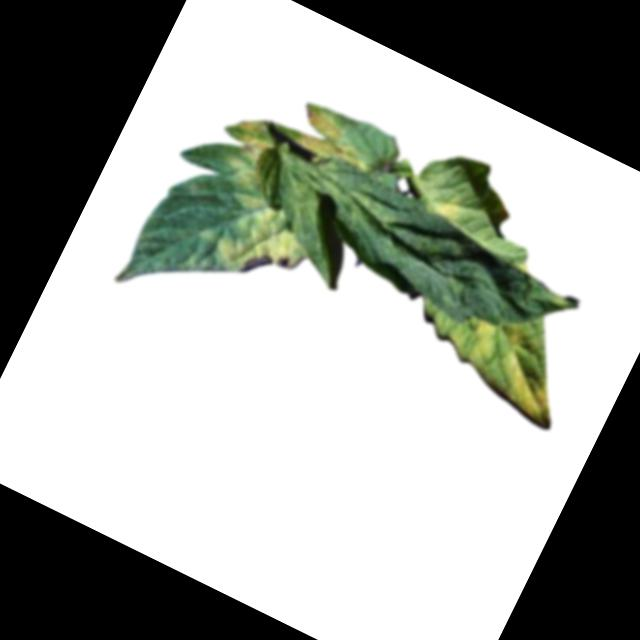Leaf_Mold: (430, 300, 584, 432), (258, 144, 405, 266), (203, 183, 324, 298), (284, 97, 385, 182), (210, 107, 287, 192), (424, 182, 466, 225)
